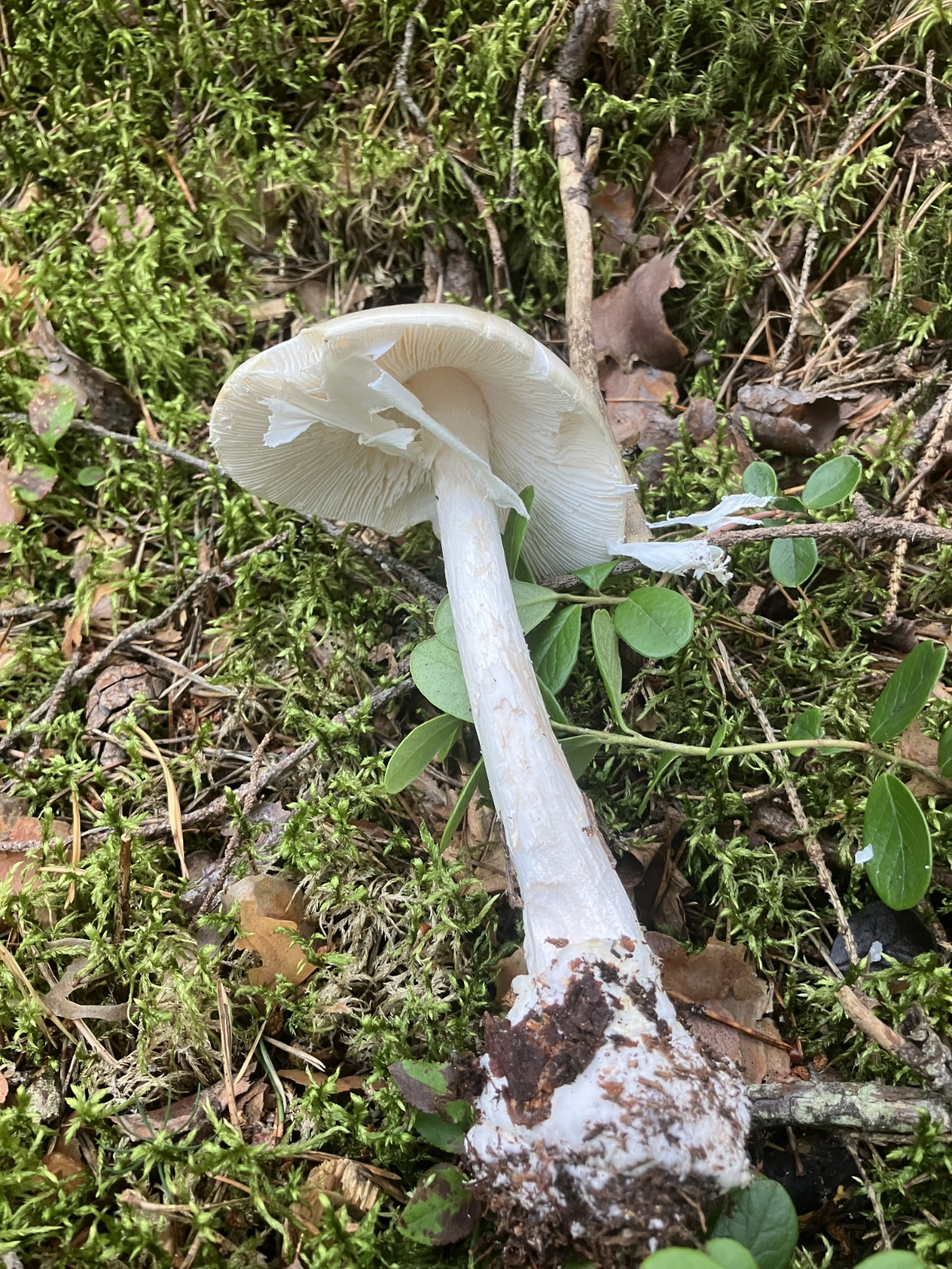stem: (407, 368, 635, 972)
underside: (210, 304, 634, 577)
